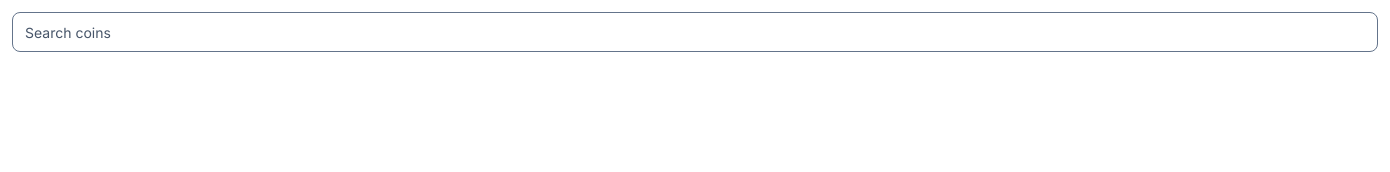
it: CoinSearch › shows hostile names as text
In the dropdown named "Search coins by name or symbol": (695, 32) x1=12 y1=12 x2=1378 y2=52, type "img"
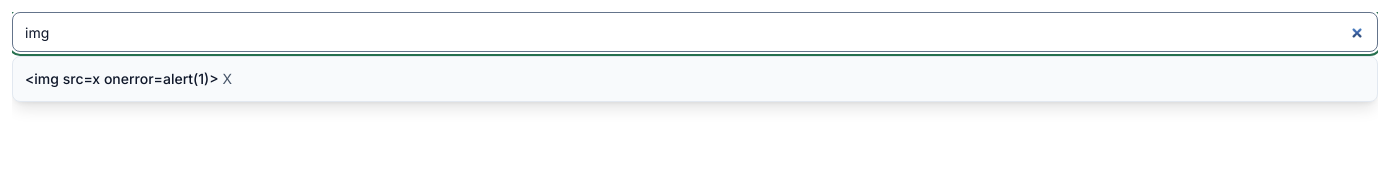
Check: the option "<img src=x onerror=alert(1)> X" is shown, box x1=25 y1=70 x2=232 y2=87
